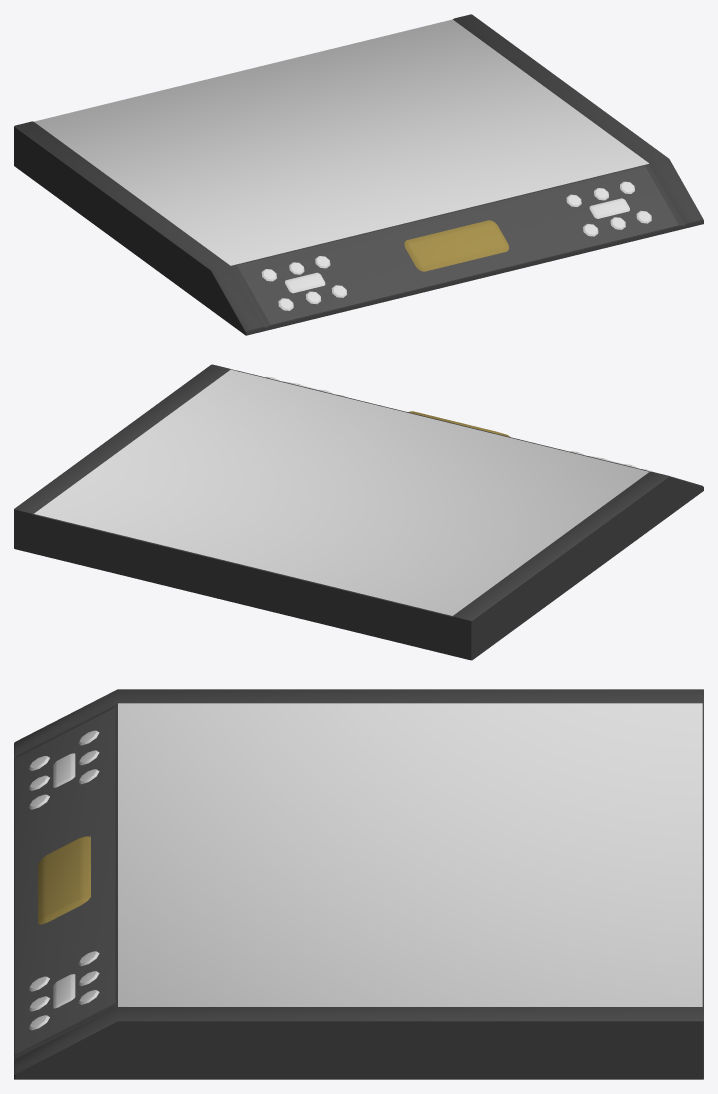
The model's file is C61Rcast.FBX.
The picture shows the model from 3 angles, top to bottom: view 1: azimuth 30°, elevation 25°; view 2: azimuth 150°, elevation 25°; view 3: azimuth 270°, elevation 25°; orthographic projection. The views are drawn at different scales.
Parts seen in each view (by area): view 1: C61Rcast; view 2: C61Rcast; view 3: C61Rcast.
Boxes of the visible parts, x1=… form: C61Rcast: x1=14, y1=14, x2=703, y2=335; C61Rcast: x1=14, y1=364, x2=703, y2=660; C61Rcast: x1=14, y1=689, x2=703, y2=1079.
Bounding box in the file's own units: 57.5 × 50.5 × 5.26.
